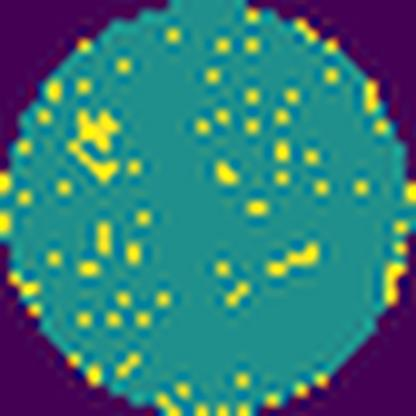Loc: (70, 109, 122, 178)
